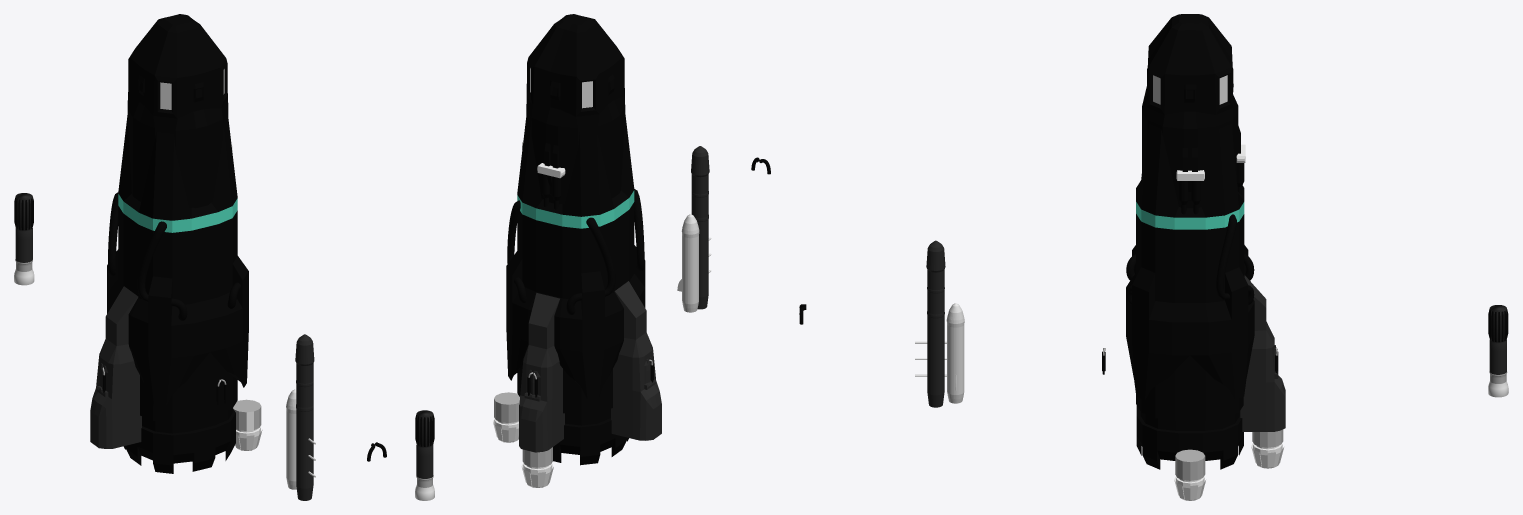
Rendered from SavitirII.glb.
The picture shows the model from 3 angles, left to right: view 1: azimuth 30°, elevation 25°; view 2: azimuth 150°, elevation 25°; view 3: azimuth 270°, elevation 25°; orthographic projection. The views are drawn at different scales.
Parts seen in each view (by area): view 1: Body, ThrusterPipe, Cylinder, Cylinder.002, Cylinder.004, Obj_TT_tube.005, Obj_TT_tube.004; view 2: Body, ThrusterPipe, ThrusterPipe2, Cylinder, Cylinder.002, Cylinder.004, CockpitPipes, Obj_TT_tube.004, Obj_TT_tube.005, Obj_TT_tube; view 3: Body, ThrusterPipe2, Cylinder, Cylinder.002, Cylinder.004, ThrusterPipe, CockpitPipes2.
Part boxes in pixels (x1,y1,x2,y2): Body: (107, 14, 248, 473); ThrusterPipe: (90, 286, 262, 450); Cylinder: (295, 334, 314, 500); Cylinder.002: (14, 193, 34, 285); Cylinder.004: (286, 389, 296, 489); Obj_TT_tube.005: (137, 221, 166, 302); Obj_TT_tube.004: (108, 192, 118, 276); Body: (506, 14, 645, 465); ThrusterPipe: (493, 281, 661, 442); ThrusterPipe2: (519, 293, 564, 487); Cylinder: (691, 146, 709, 309); Cylinder.002: (415, 410, 434, 500); Cylinder.004: (677, 214, 699, 312); CockpitPipes: (537, 143, 565, 209); Obj_TT_tube.004: (586, 217, 615, 296); Obj_TT_tube.005: (634, 189, 644, 271); Obj_TT_tube: (507, 200, 520, 263); Body: (1126, 14, 1254, 469); ThrusterPipe2: (1240, 275, 1285, 468); Cylinder: (926, 240, 945, 407); Cylinder.002: (1488, 305, 1508, 397); Cylinder.004: (946, 303, 964, 403); ThrusterPipe: (1174, 449, 1205, 500); CockpitPipes2: (1176, 147, 1204, 214).
Size of the model in its own units: 22.09 by 56.57 by 81.62.
